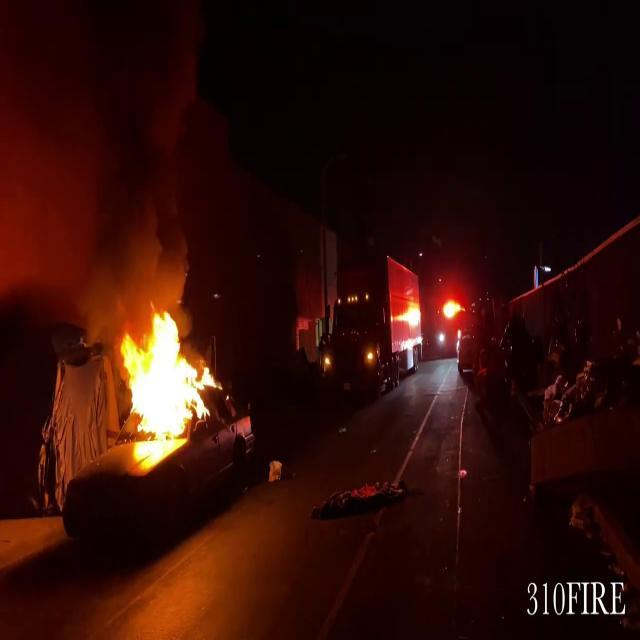Fire: (115, 302, 221, 459)
Smoke: (0, 1, 196, 320)
